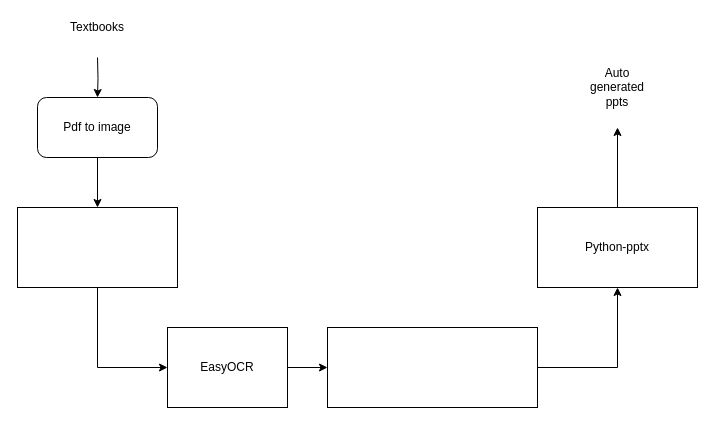
The diagram is 715 pixels wide and 425 high, and some of its shapes have lost their labels. The shapes that lost their labels are listed below. From the top down, each one's centre as x and y in pixels, then its label:
At point 97,247: "Layout detection".
At point 432,367: "Text Summarization".
